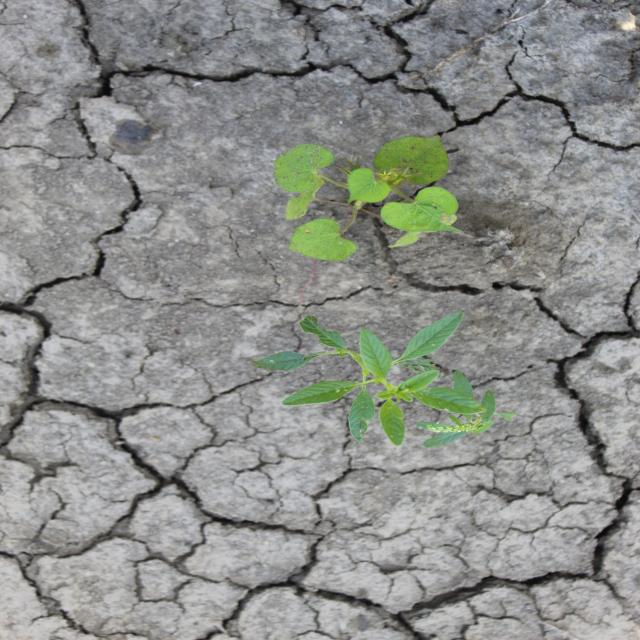MorningGlory: (271, 132, 468, 262)
Waterhemp: (248, 309, 518, 448)
